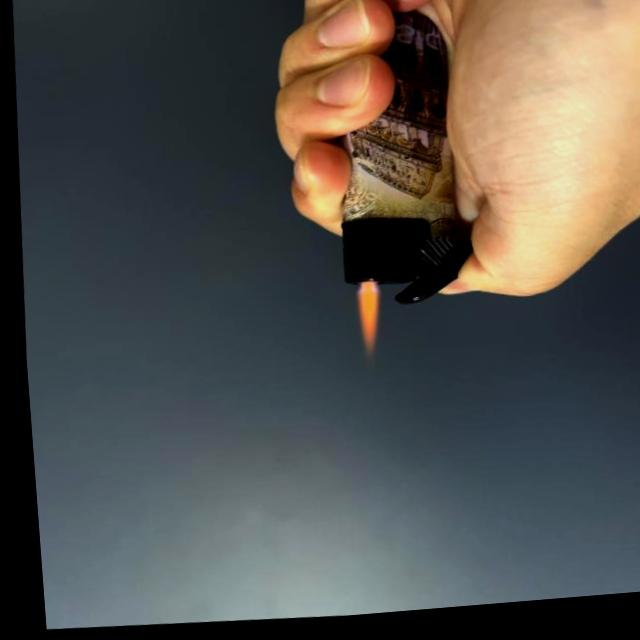helmet: (347, 286, 379, 359)
